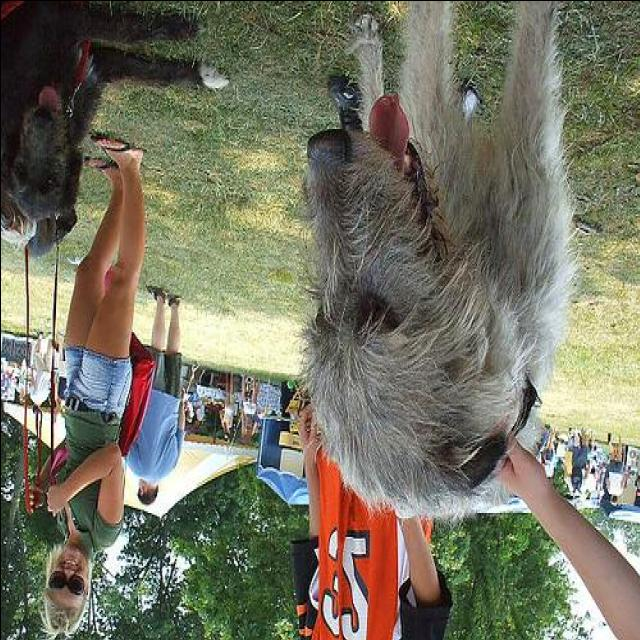irish_wolfhound: (293, 2, 572, 522), (0, 2, 234, 218)
